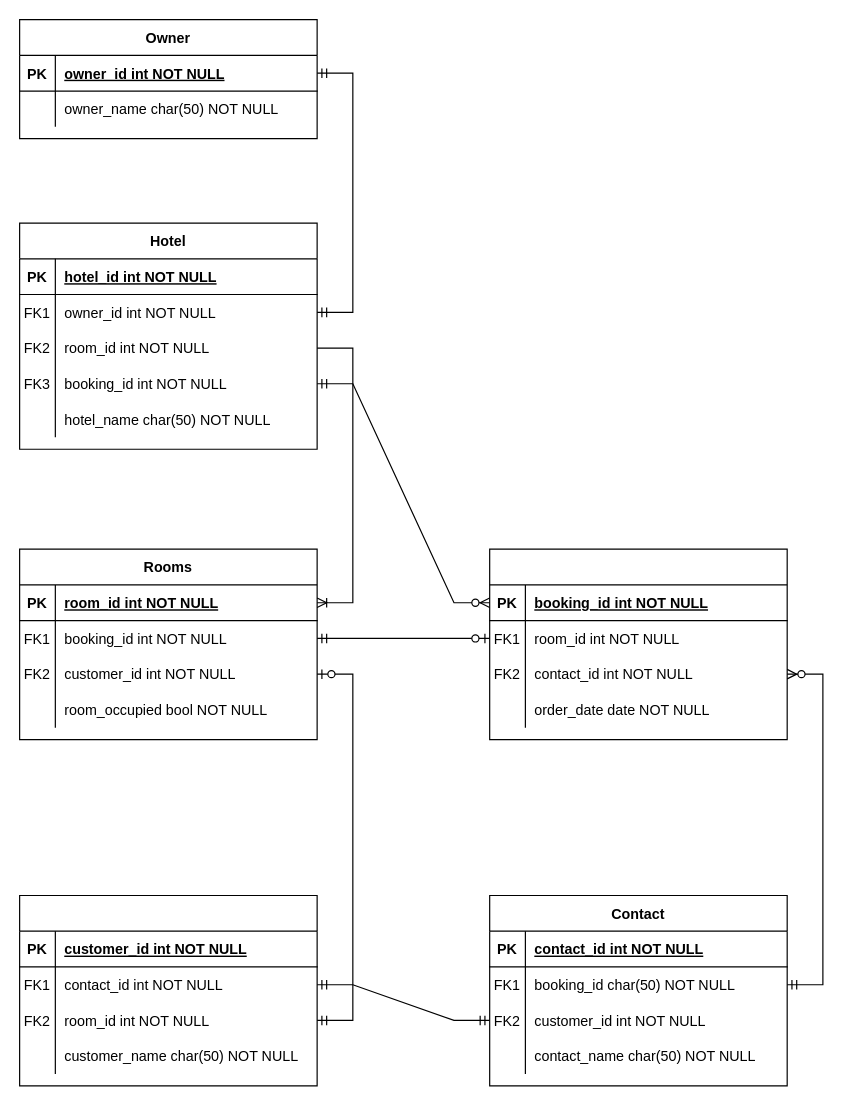
Image size: 843x1106. Some labels were removed from this diagram. The shapes that lost their labels are listed below. From the top down, each one's box as (x1, y1, x2, y2) in pixels, then its label:
(488, 548, 787, 740): Bookings
(18, 894, 317, 1086): Customers
